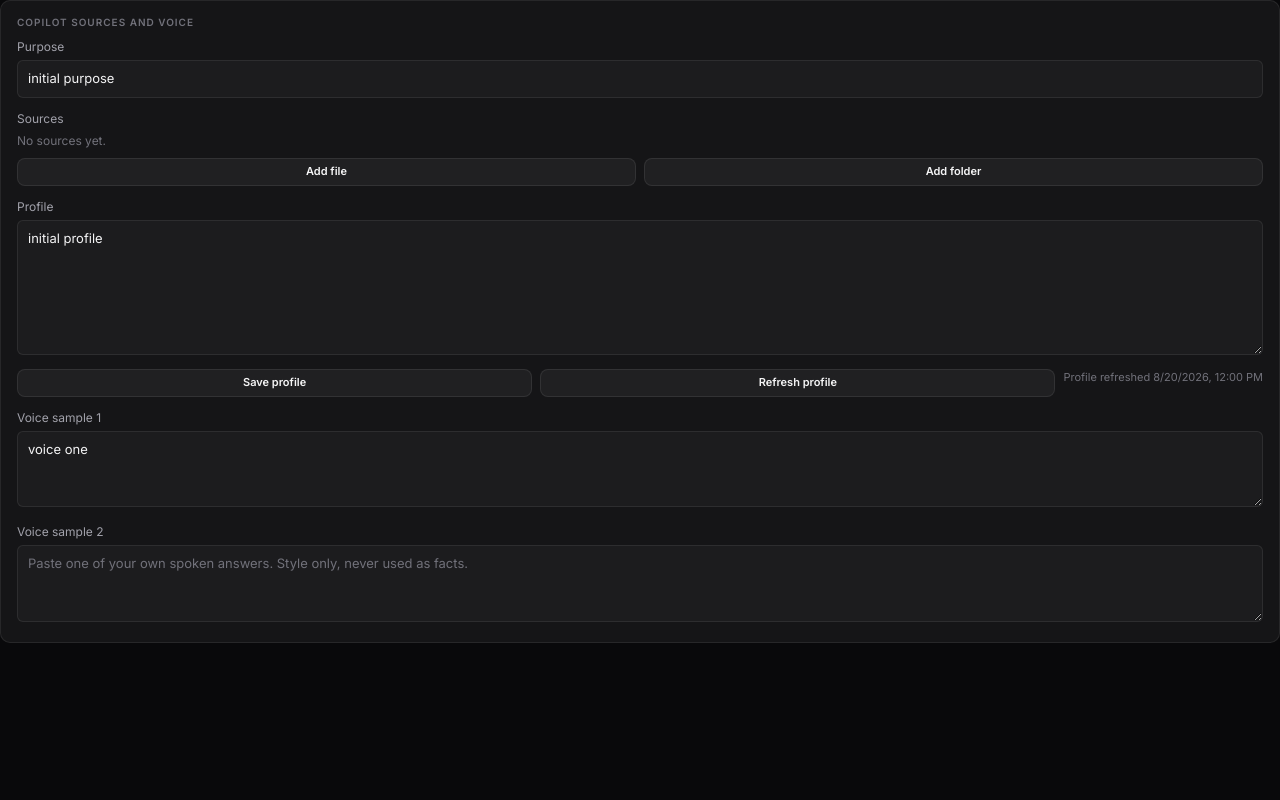
Test: FolderCopilotCard › rejected addFolderSource shows message in .settings-msg.err
The width and height of the screenshot is (1280, 800).
Click the button "Add folder": (954, 172) [644,158,1263,186]
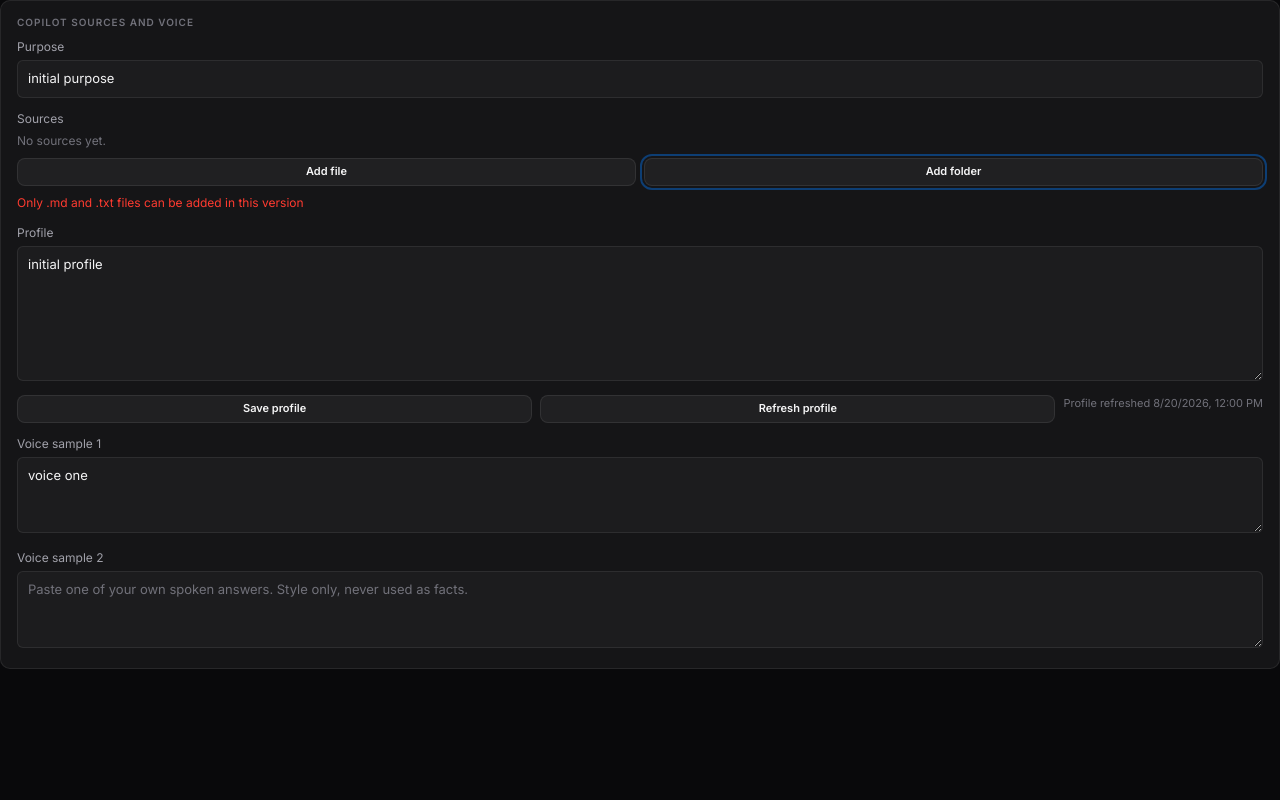
Now the text "Only .md and .txt files can be added in this version" is shown, box [17,194,304,210]
